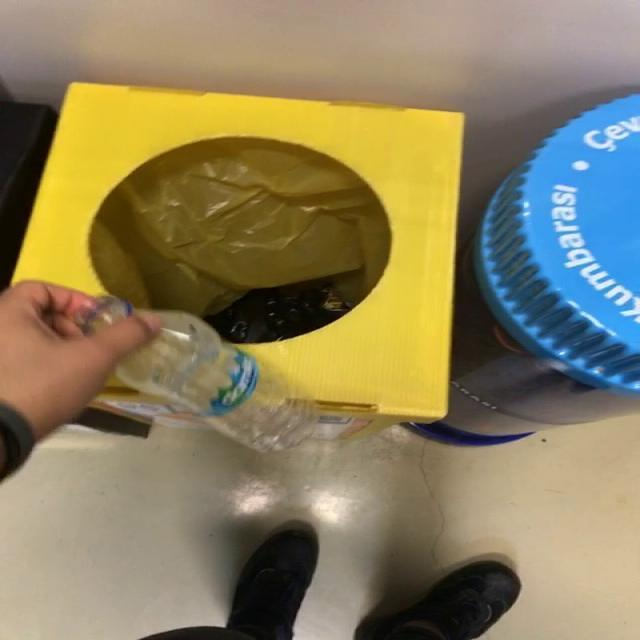Plastic: (115, 311, 319, 452), (77, 296, 133, 334)
